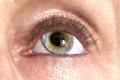eye: (42, 31, 74, 54)
